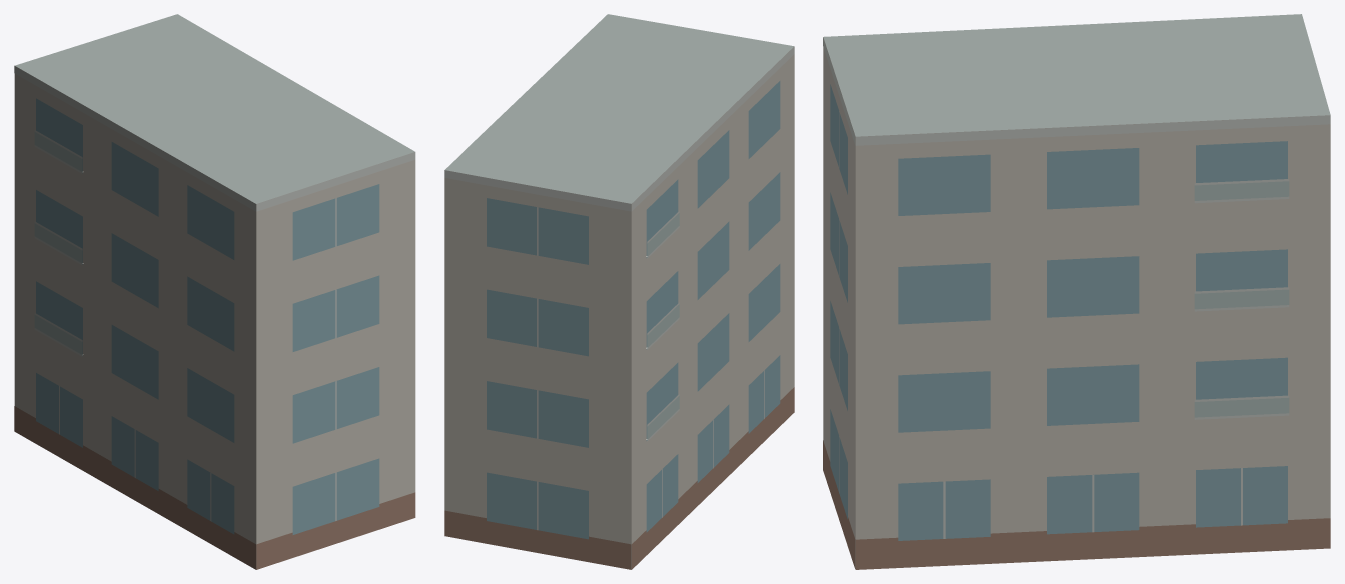
Rendered from survey-upis-32707028.glb.
3 renders of one model, left to right at view 1: azimuth 30°, elevation 25°; view 2: azimuth 150°, elevation 25°; view 3: azimuth 270°, elevation 25°, orthographic. The views are drawn at different scales.
Visible parts, largest first — view 1: survey-upis-32707028.tmp; view 2: survey-upis-32707028.tmp; view 3: survey-upis-32707028.tmp.
Boxes of the visible parts, bbox=[...] form: survey-upis-32707028.tmp: bbox=[14, 14, 415, 569]; survey-upis-32707028.tmp: bbox=[444, 14, 794, 569]; survey-upis-32707028.tmp: bbox=[823, 14, 1330, 569].
Size of the model in its own units: 6.99 by 11.5 by 12.22.
